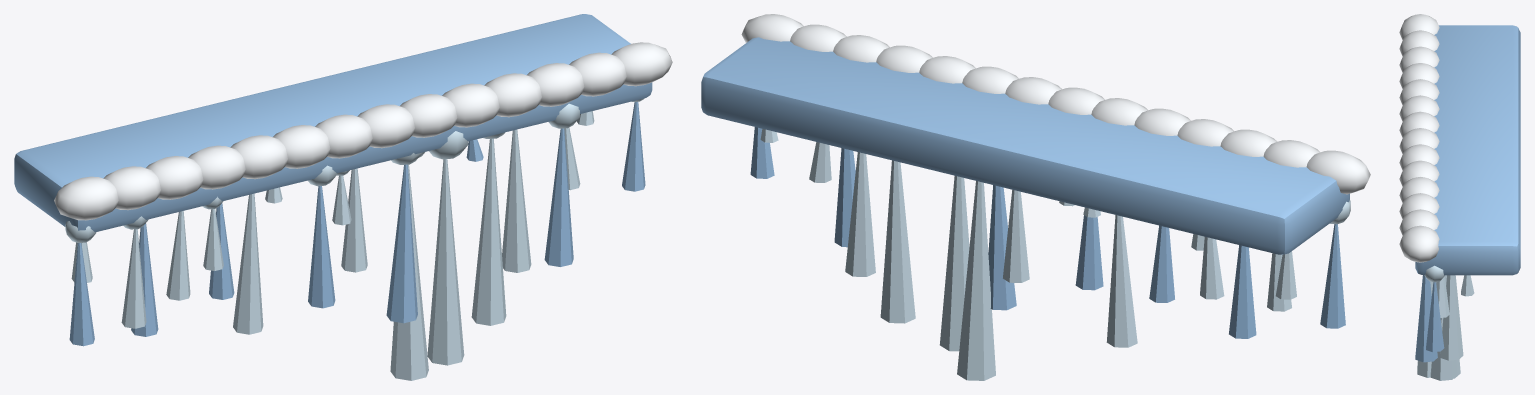
File: bg_icicles.glb
3 renders of one model, left to right at view 1: azimuth 30°, elevation 25°; view 2: azimuth 150°, elevation 25°; view 3: azimuth 270°, elevation 25°, orthographic. The views are drawn at different scales.
Visible parts, largest first — view 1: bg_icicles; view 2: bg_icicles; view 3: bg_icicles.
Boxes of the visible parts, x1,y1,x2,y2 form: bg_icicles: [14, 14, 672, 380]; bg_icicles: [701, 14, 1370, 380]; bg_icicles: [1399, 14, 1520, 380].
Bounding box in the file's own units: 2.12 × 0.9437 × 0.46.
